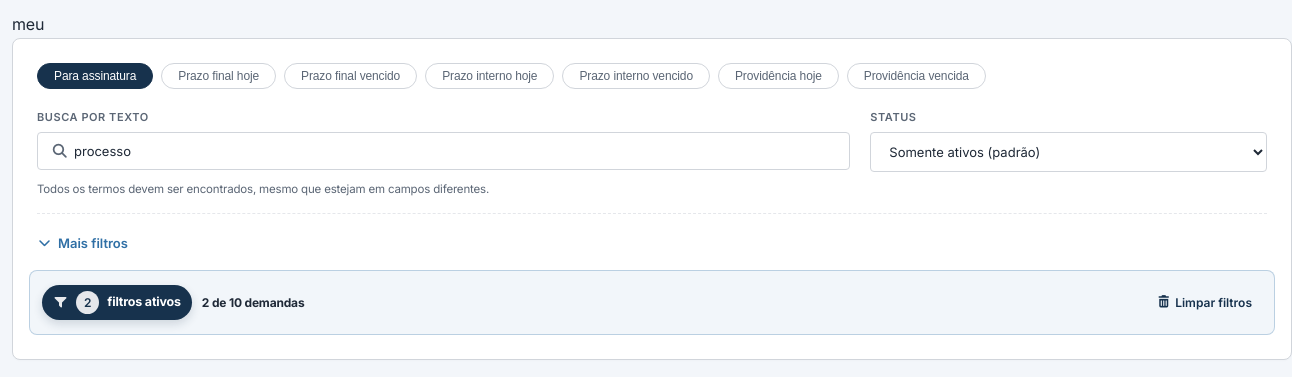
Scenario: FilterPanel e o contexto de carteira › limpa filtros sem alterar a carteira definida pela rota
The image size is (1292, 377).
Expected: the text with test id "scope-atual" reads "meu", [12,14,44,34]
Click the button "Limpar filtros".
click(1204, 302)  # box [1146,285,1262,319]
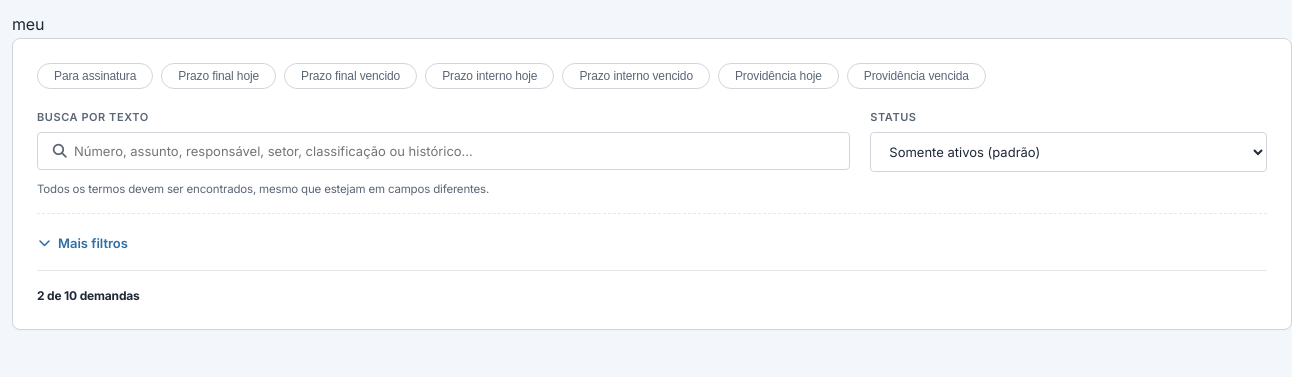
Expected: the text with test id "scope-atual" reads "meu", [12,14,44,34]
Expected: the dropdown labelled "Busca por texto" is empty, [37,132,850,170]
